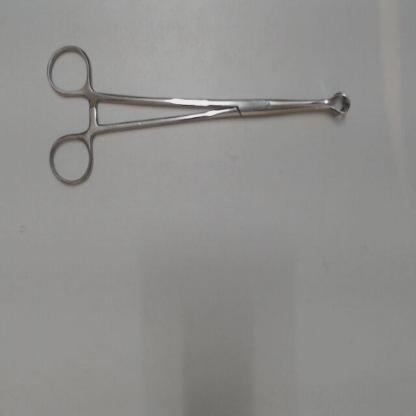8 Babcock Tissue Forceps: (44, 36, 356, 190)
